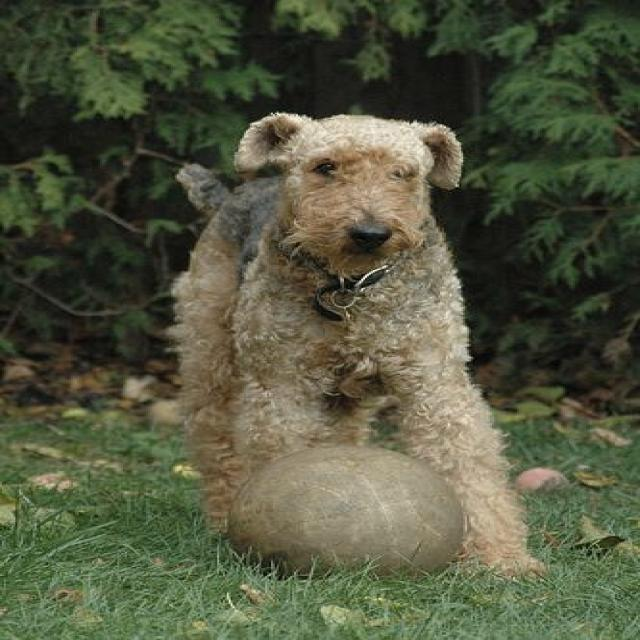airedale: (169, 110, 540, 574)
